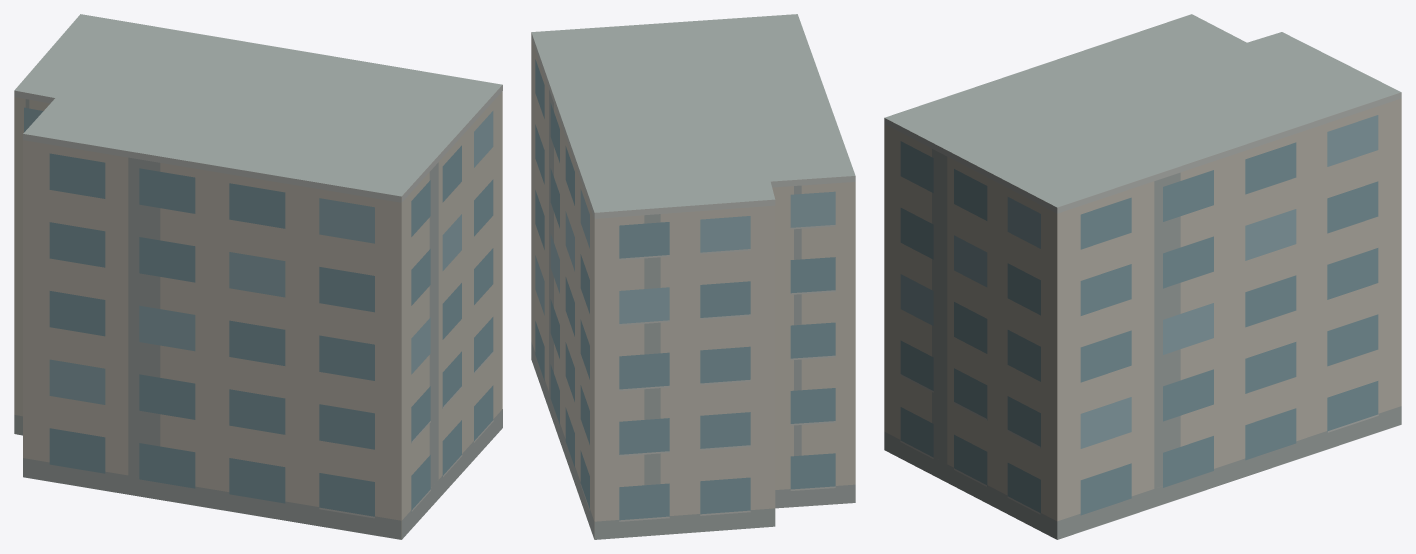
The model's file is survey-upis-32837540.glb.
3 views of the same model, side by side, from view 1: azimuth 30°, elevation 25°; view 2: azimuth 150°, elevation 25°; view 3: azimuth 270°, elevation 25° (orthographic). The views are drawn at different scales.
Visible parts, largest first — view 1: survey-upis-32837540.tmp; view 2: survey-upis-32837540.tmp; view 3: survey-upis-32837540.tmp.
Part boxes in pixels (left/top/right/bottom): survey-upis-32837540.tmp: left=14, top=14, right=502, bottom=539; survey-upis-32837540.tmp: left=531, top=14, right=855, bottom=539; survey-upis-32837540.tmp: left=884, top=14, right=1401, bottom=539.
Size of the model in its own units: 16.5 by 13.2 by 18.63.
